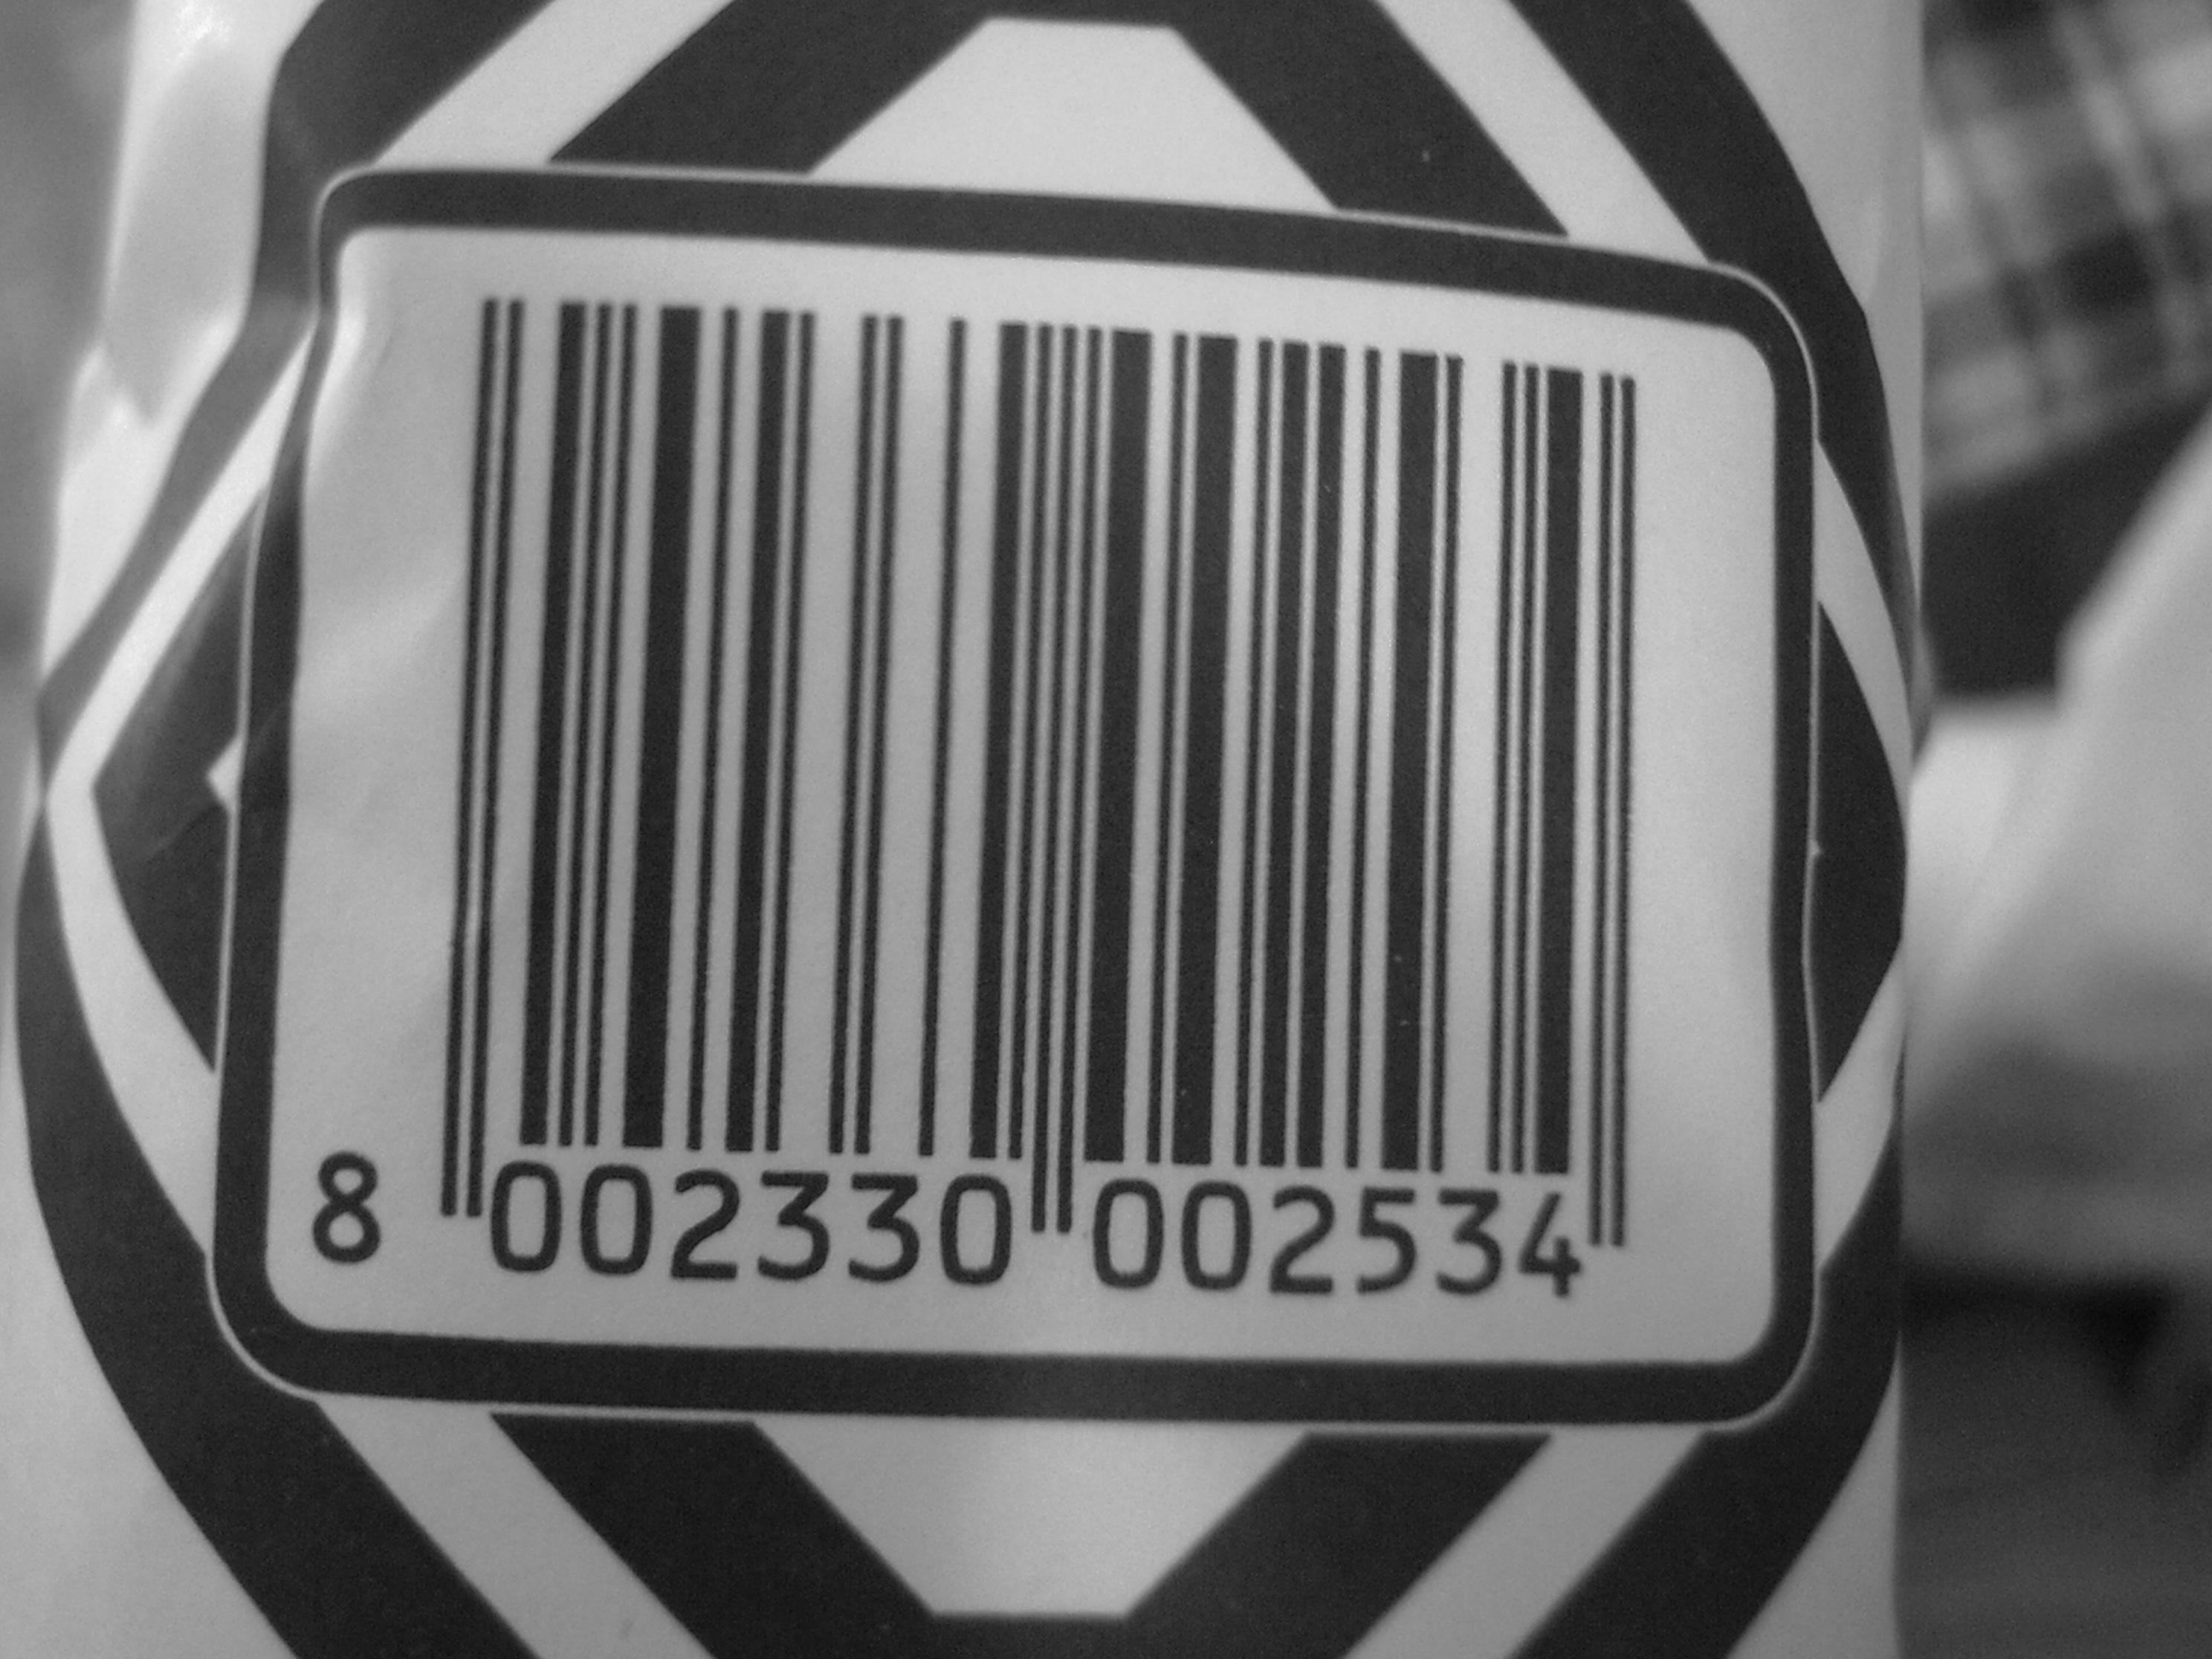Barcode: (420, 286, 1689, 1265)
